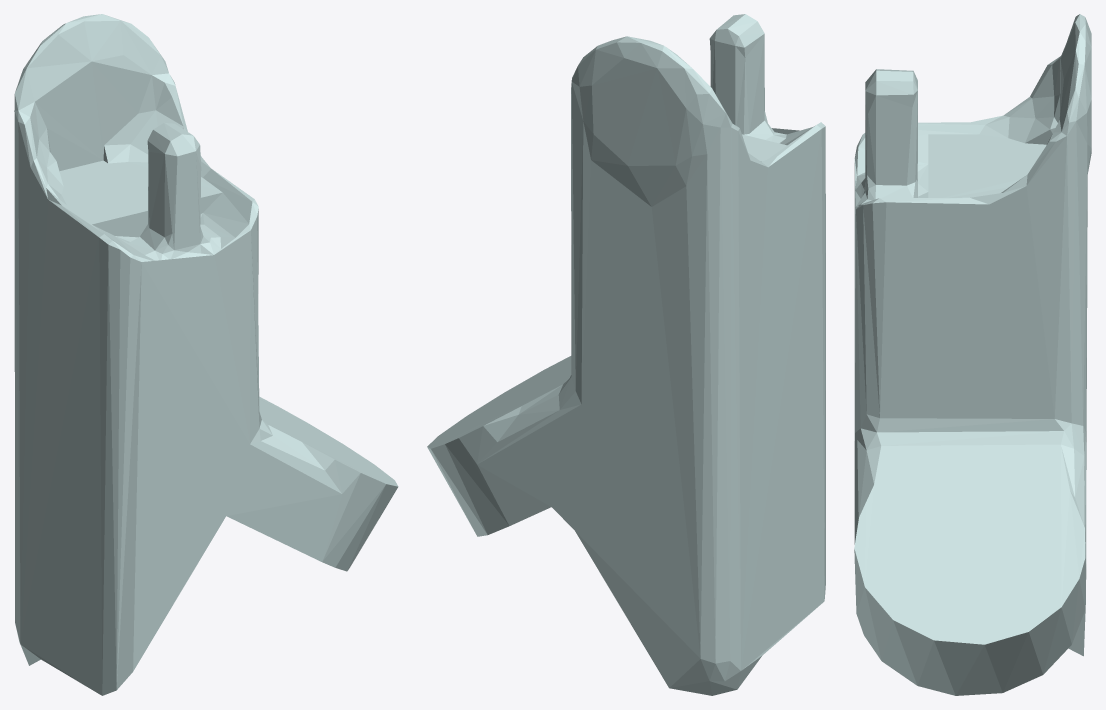
File: lfmetacarpal.dae
3 renders of one model, left to right at view 1: azimuth 30°, elevation 25°; view 2: azimuth 150°, elevation 25°; view 3: azimuth 270°, elevation 25°, orthographic. The views are drawn at different scales.
Visible parts, largest first — view 1: metacarpal; view 2: metacarpal; view 3: metacarpal.
Part boxes in pixels (bbox=[...]): metacarpal: bbox=[14, 14, 398, 695]; metacarpal: bbox=[427, 14, 825, 695]; metacarpal: bbox=[854, 14, 1091, 695].
Bounding box in the file's own units: 37.15 × 22.54 × 68.42.
